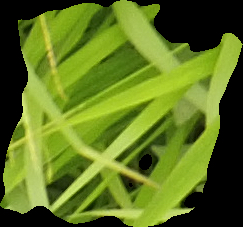grass: (1, 1, 242, 225)
